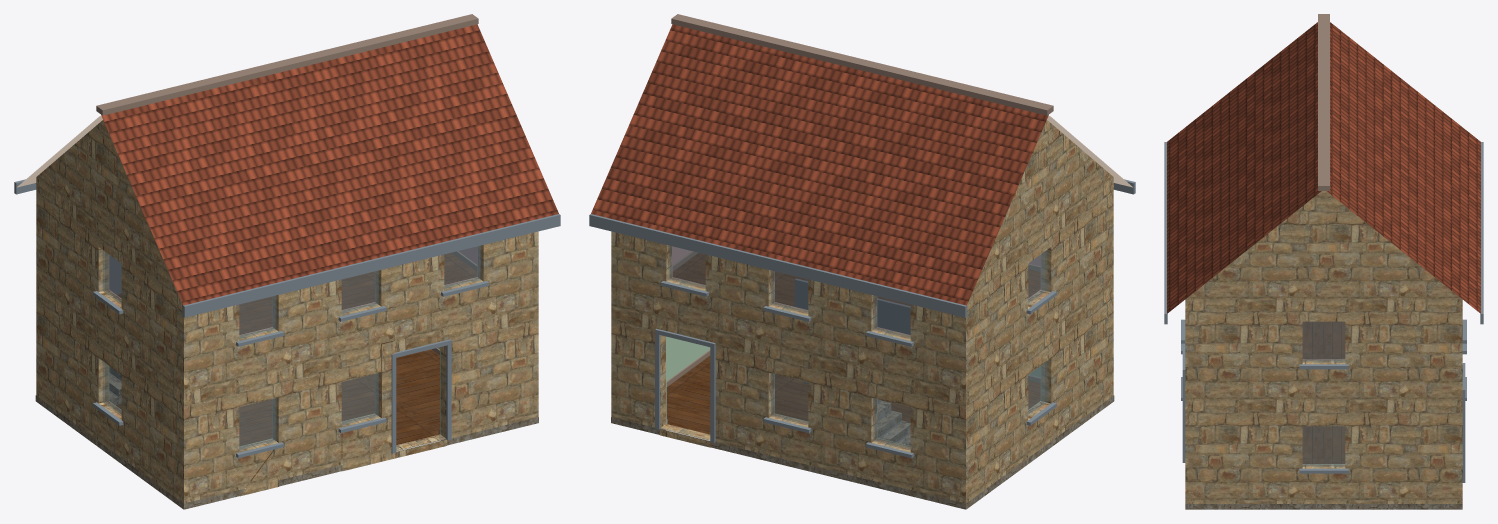
Rendered from cottage-stone.zfix-v14.lod0.glb.
3 views of the same model, side by side, from view 1: azimuth 30°, elevation 25°; view 2: azimuth 150°, elevation 25°; view 3: azimuth 270°, elevation 25° (orthographic). The views are drawn at different scales.
Parts seen in each view (by area): view 1: cottage-stone; view 2: cottage-stone; view 3: cottage-stone.
Part boxes in pixels (<box>): cottage-stone: <box>14,14,560,509</box>; cottage-stone: <box>589,14,1135,509</box>; cottage-stone: <box>1164,14,1483,509</box>.
Bounding box in the file's own units: 9.54 × 8.5 × 7.48.
Materials: 6 (4 with a texture image).
